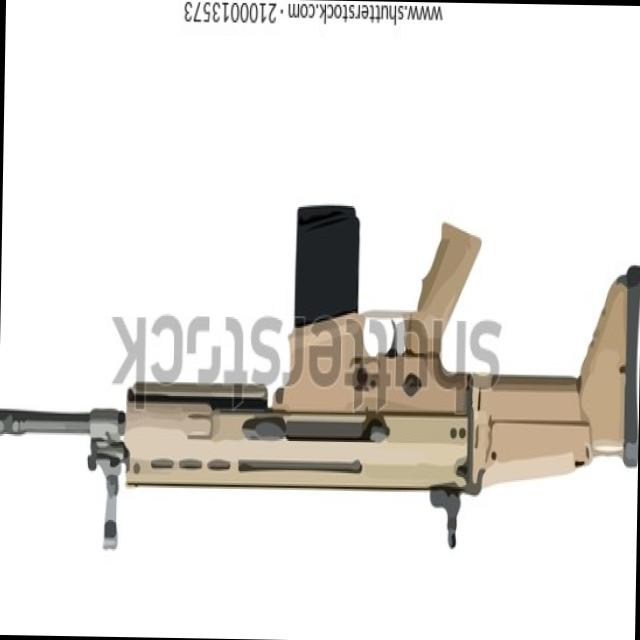Gun: (0, 172, 640, 562)
